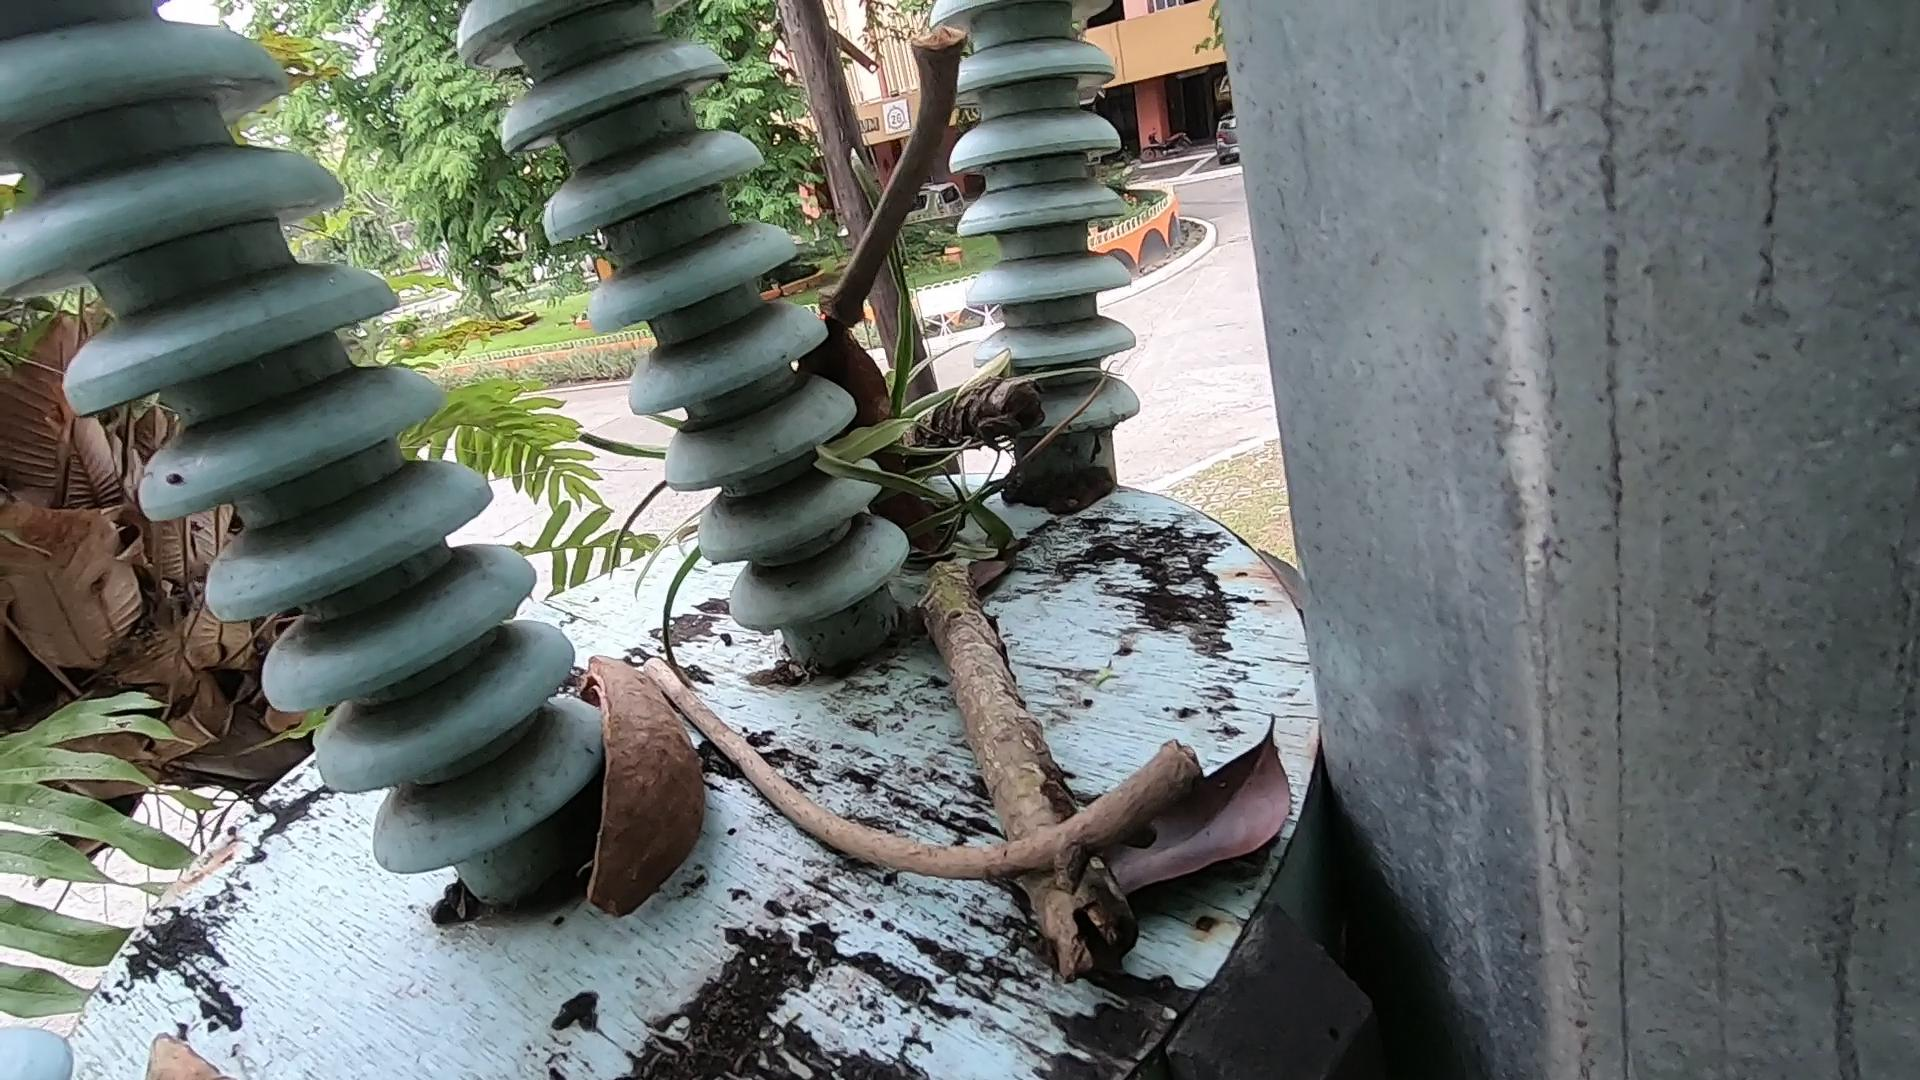branch with leaves: (856, 214, 1204, 1007)
leaf: (1172, 680, 1335, 945), (117, 1011, 301, 1080)
mahogany fruit: (806, 257, 978, 624), (527, 640, 723, 936)
tree branch: (628, 642, 1203, 901), (803, 1, 1015, 436)
